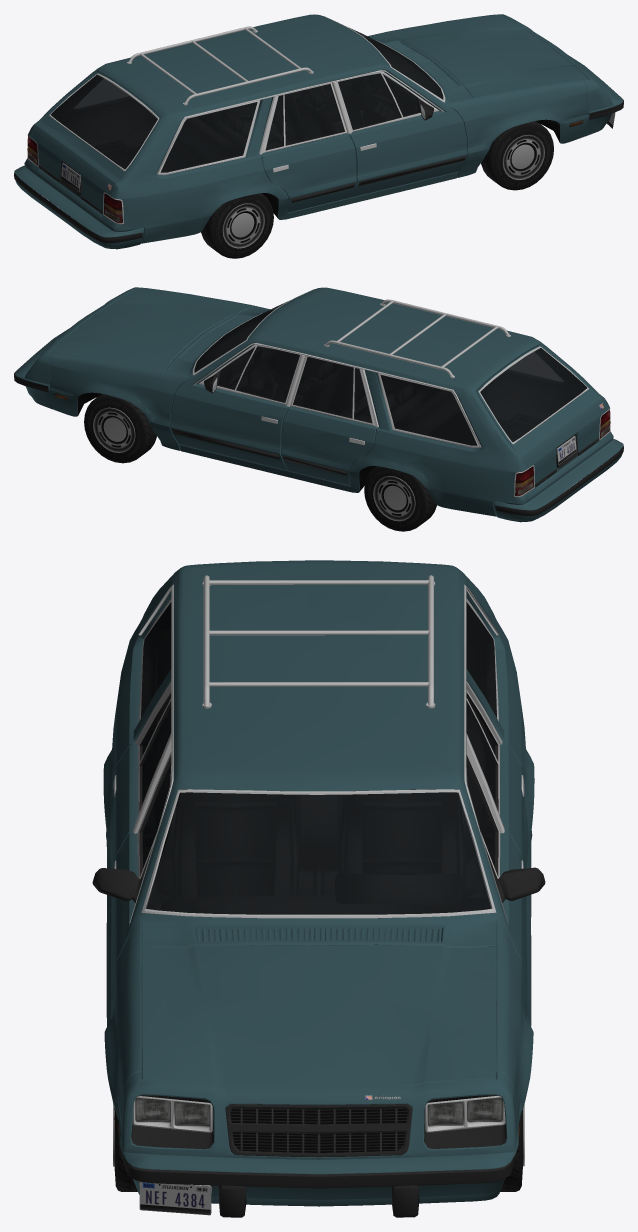
The model's file is fairheaven-wagon.glb.
3 renders of one model, top to bottom at view 1: azimuth 30°, elevation 25°; view 2: azimuth 150°, elevation 25°; view 3: azimuth 270°, elevation 25°, orthographic. The views are drawn at different scales.
Parts seen in each view (by area): view 1: Fairheaven_LT84_Bumper_Rear001_Fairheaven_LT80_Bodymat_0, Fairheaven_LT80_Glass_Driver007_UCB_Lights_and_Glass_Transpe, Fairheaven_LT80_Interior_Trim005_UCB_Interior_Trim_0, Fairheaven_LT80_Bottom006_UCB_BOTTOM_GT_0, Fairheaven_LT80_WheelStock_FL002_RB1c_Tire_1k_0, Fairheaven_LT80_Brakelights006_UCB_Lights_and_Glass_0, Fairheaven_SW84_Numberplate_Front001_Numberplates_Misk_U_0; view 2: Fairheaven_LT84_Bumper_Rear001_Fairheaven_LT80_Bodymat_0, Fairheaven_LT80_Glass_Driver007_UCB_Lights_and_Glass_Transpe, Fairheaven_LT80_Interior_Trim005_UCB_Interior_Trim_0, Fairheaven_LT80_Bottom006_UCB_BOTTOM_GT_0, Fairheaven_LT80_WheelStock_FL002_RB1c_Tire_1k_0, Fairheaven_LT80_Brakelights006_UCB_Lights_and_Glass_0, Fairheaven_SW84_Numberplate_Front001_Numberplates_Misk_U_0; view 3: Fairheaven_LT84_Bumper_Rear001_Fairheaven_LT80_Bodymat_0, Fairheaven_LT80_Glass_Driver007_UCB_Lights_and_Glass_Transpe, Fairheaven_LT80_Interior_Trim005_UCB_Interior_Trim_0, Fairheaven_LT80_Bottom006_UCB_BOTTOM_GT_0, Fairheaven_LT80_Brakelights006_UCB_Lights_and_Glass_0, Fairheaven_SW84_Numberplate_Front001_Numberplates_Misk_U_0, Fairheaven_LT80_WheelStock_FL002_RB1c_Tire_1k_0.
Part boxes in pixels (x1=…): Fairheaven_LT84_Bumper_Rear001_Fairheaven_LT80_Bodymat_0: x1=14, y1=14, x2=622, y2=249; Fairheaven_LT80_Glass_Driver007_UCB_Lights_and_Glass_Transpe: x1=27, y1=27, x2=443, y2=221; Fairheaven_LT80_Interior_Trim005_UCB_Interior_Trim_0: x1=51, y1=38, x2=443, y2=209; Fairheaven_LT80_Bottom006_UCB_BOTTOM_GT_0: x1=14, y1=16, x2=623, y2=243; Fairheaven_LT80_WheelStock_FL002_RB1c_Tire_1k_0: x1=201, y1=121, x2=553, y2=258; Fairheaven_LT80_Brakelights006_UCB_Lights_and_Glass_0: x1=27, y1=137, x2=122, y2=223; Fairheaven_SW84_Numberplate_Front001_Numberplates_Misk_U_0: x1=61, y1=112, x2=615, y2=192; Fairheaven_LT84_Bumper_Rear001_Fairheaven_LT80_Bodymat_0: x1=15, y1=287, x2=623, y2=522; Fairheaven_LT80_Glass_Driver007_UCB_Lights_and_Glass_Transpe: x1=194, y1=300, x2=610, y2=494; Fairheaven_LT80_Interior_Trim005_UCB_Interior_Trim_0: x1=195, y1=311, x2=586, y2=482; Fairheaven_LT80_Bottom006_UCB_BOTTOM_GT_0: x1=14, y1=289, x2=623, y2=515; Fairheaven_LT80_WheelStock_FL002_RB1c_Tire_1k_0: x1=84, y1=394, x2=436, y2=531; Fairheaven_LT80_Brakelights006_UCB_Lights_and_Glass_0: x1=515, y1=411, x2=610, y2=496; Fairheaven_SW84_Numberplate_Front001_Numberplates_Misk_U_0: x1=557, y1=436, x2=576, y2=465; Fairheaven_LT84_Bumper_Rear001_Fairheaven_LT80_Bodymat_0: x1=103, y1=560, x2=534, y2=1206; Fairheaven_LT80_Glass_Driver007_UCB_Lights_and_Glass_Transpe: x1=135, y1=602, x2=502, y2=1125; Fairheaven_LT80_Interior_Trim005_UCB_Interior_Trim_0: x1=141, y1=620, x2=496, y2=945; Fairheaven_LT80_Bottom006_UCB_BOTTOM_GT_0: x1=92, y1=575, x2=545, y2=1217; Fairheaven_LT80_Brakelights006_UCB_Lights_and_Glass_0: x1=136, y1=1098, x2=502, y2=1124; Fairheaven_SW84_Numberplate_Front001_Numberplates_Misk_U_0: x1=139, y1=1181, x2=211, y2=1215; Fairheaven_LT80_WheelStock_FL002_RB1c_Tire_1k_0: x1=113, y1=1103, x2=524, y2=1191.
Bounding box in the file's own units: 5.03 × 1.4 × 1.86.
Materials: 8 (7 with a texture image).
